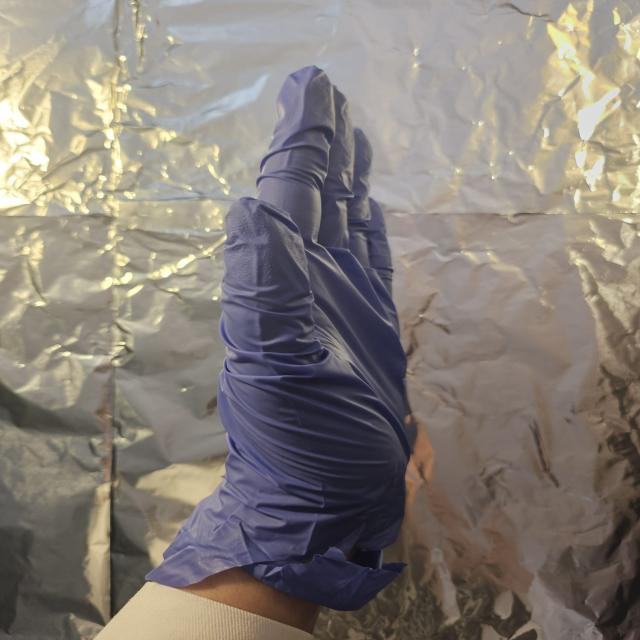gloves_damaged: (138, 66, 411, 612)
